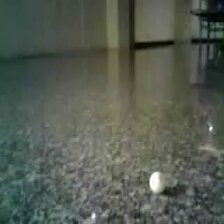w: (148, 171, 165, 193)
